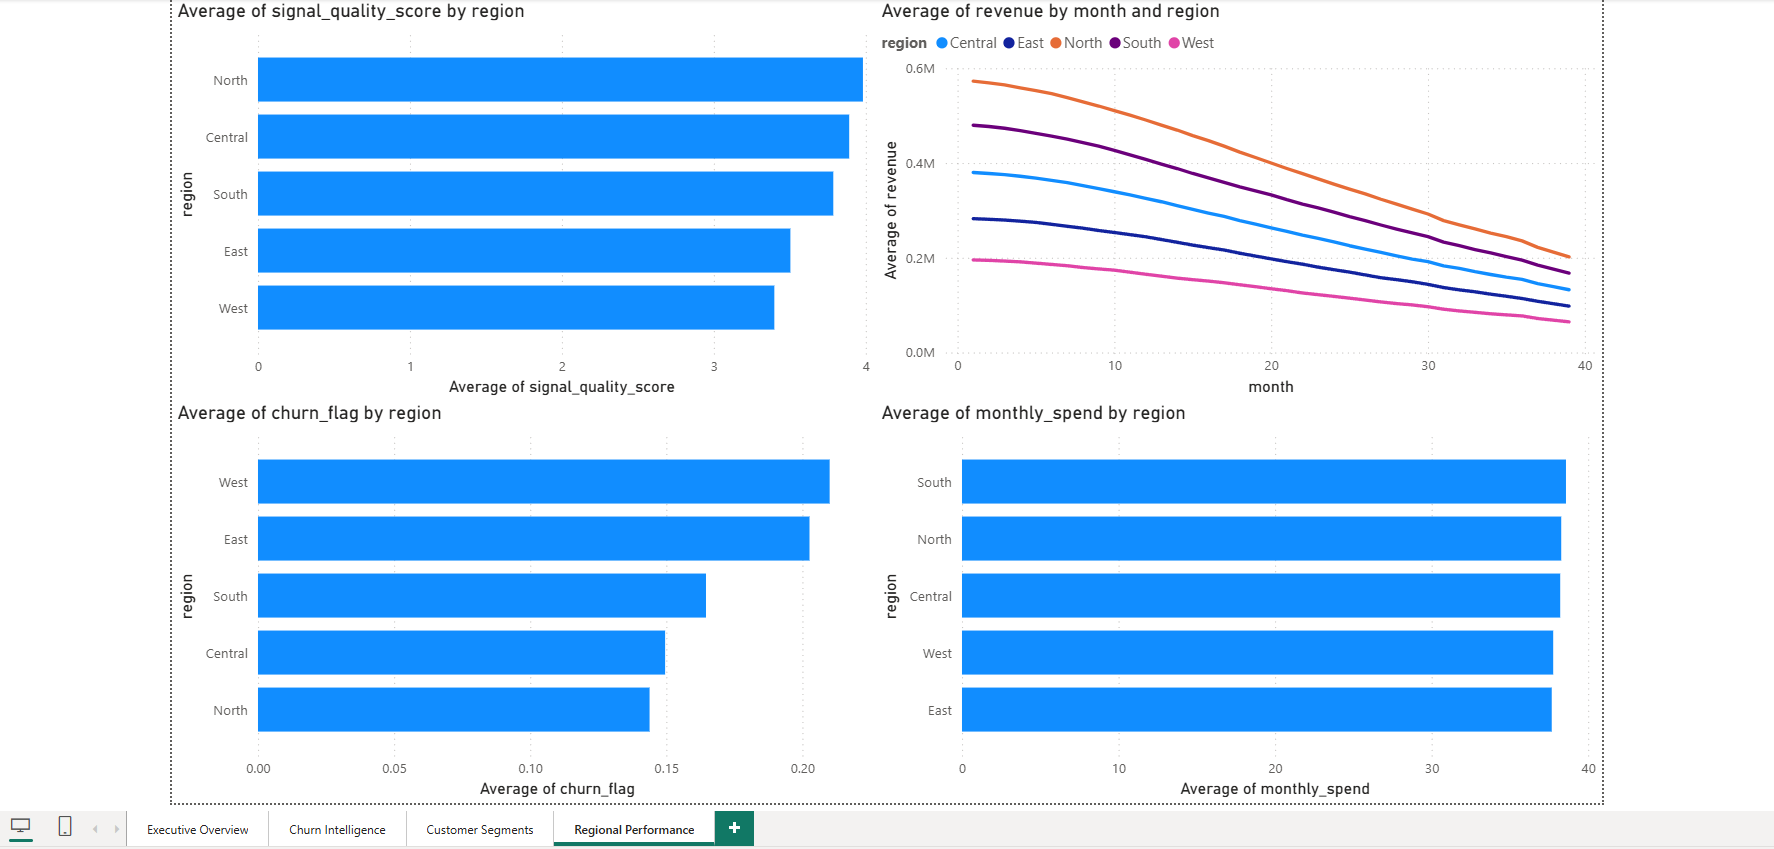

This screenshot's page, from the dashboard's own definition file:
{"tool":"powerbi","page":{"name":"Regional Performance","canvas":[1280,720],"ordinal":3},"visuals":[{"type":"clusteredBarChart","fields":{"Category":["telecom_segmented.region"],"Y":["Avg(telecom_segmented.signal_quality_score)"]},"box":[0,0,630.3,359.9],"z":0},{"type":"clusteredBarChart","fields":{"Category":["telecom_segmented.region"],"Y":["Avg(telecom_segmented.churn_flag)"]},"box":[0,359.9,630.3,359.9],"z":1},{"type":"clusteredBarChart","fields":{"Category":["telecom_segmented.region"],"Y":["Avg(telecom_segmented.monthly_spend)"]},"box":[630.3,359.9,649.7,359.9],"z":2},{"type":"lineChart","fields":{"Category":["revenue_forecast.month"],"Y":["Avg(revenue_forecast.revenue)"],"Series":["revenue_forecast.region"]},"box":[630.3,0,649.7,359.9],"z":3}]}

Visuals, with their boxes on the page's 1280x720 design canvas (x1, y1, x2, y2). These are canvas units, not pixel positions in the 1774x849 screenshot, which may show the page scaled, cropped or inside an application window:
clusteredBarChart - telecom_segmented.region x Avg(telecom_segmented.signal_quality_score): (0, 0, 630, 360)
clusteredBarChart - telecom_segmented.region x Avg(telecom_segmented.churn_flag): (0, 360, 630, 720)
clusteredBarChart - telecom_segmented.region x Avg(telecom_segmented.monthly_spend): (630, 360, 1280, 720)
lineChart - revenue_forecast.month x Avg(revenue_forecast.revenue): (630, 0, 1280, 360)
